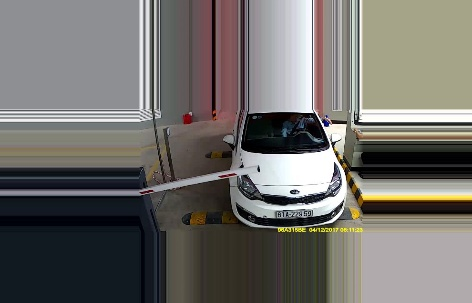plate: (276, 206, 313, 218)
